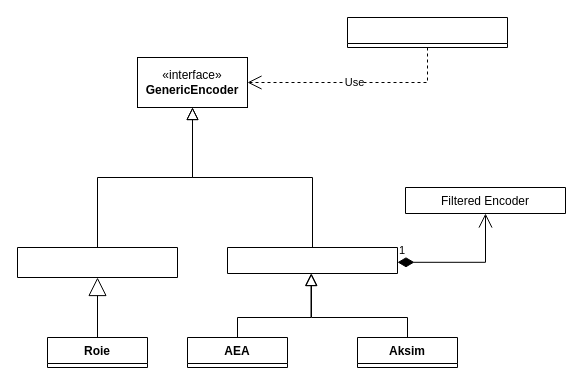
This 583x385 diagram has some shape labels left out. The shapes that lost their labels are listed below. From the top down, each one's centre as x and y in pixels, then its label:
the point at 427,32: The Encoder Reader
the point at 97,262: Incremental
the point at 312,260: Absolute
